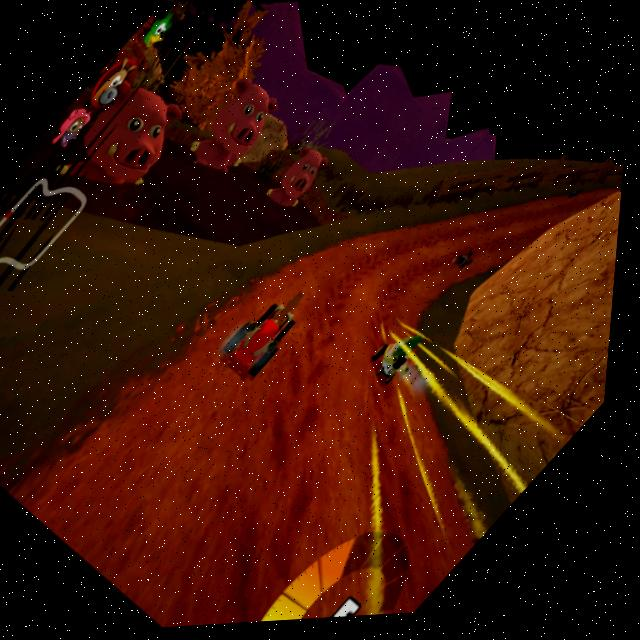enemy_kart: (367, 322, 437, 394), (454, 252, 484, 281)
off_track: (123, 20, 402, 284)
player_kart: (223, 277, 331, 387)
track: (327, 211, 470, 349), (476, 192, 555, 268)
